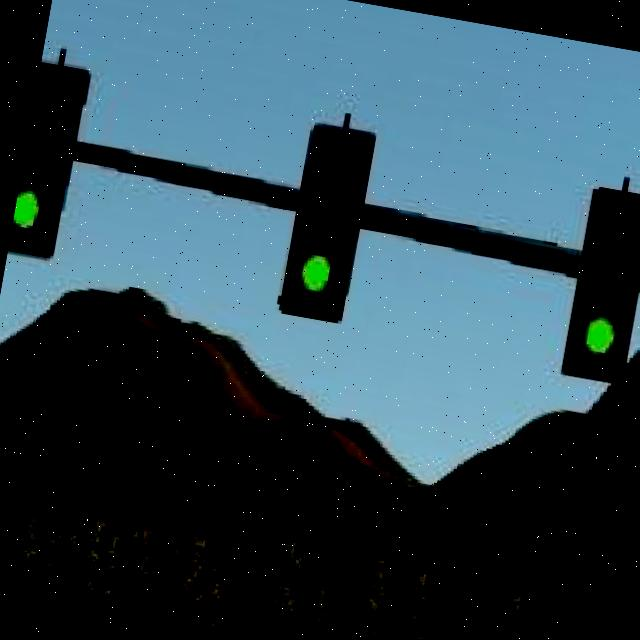Zielone swiatlo: (281, 122, 373, 322), (10, 63, 91, 266), (560, 185, 640, 386)
